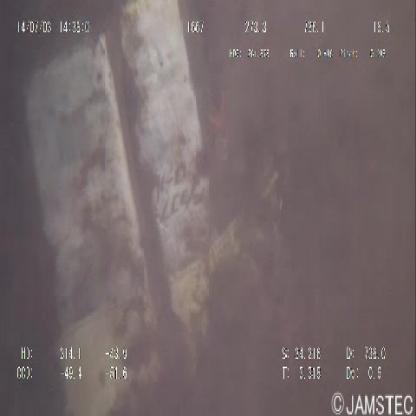Rác: (17, 3, 273, 411)
